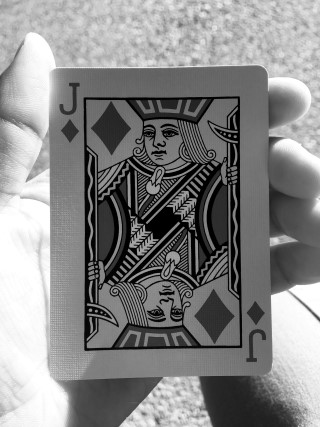JackOfDiamonds: (48, 65, 274, 381)
